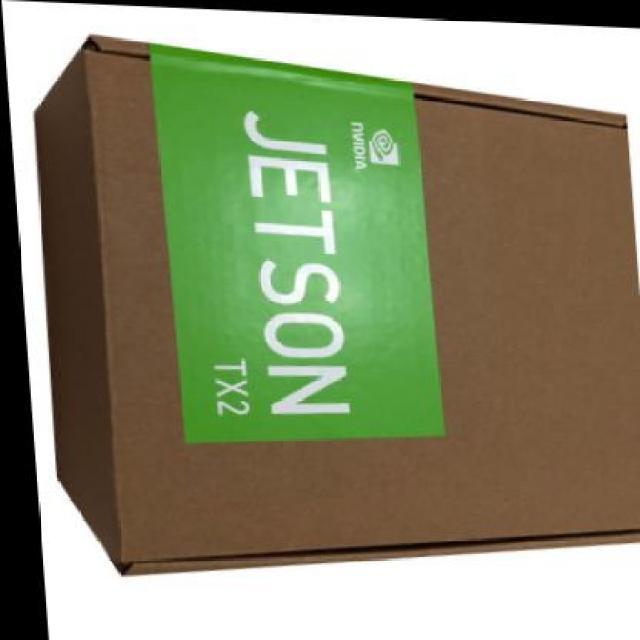box: (26, 26, 639, 594)
